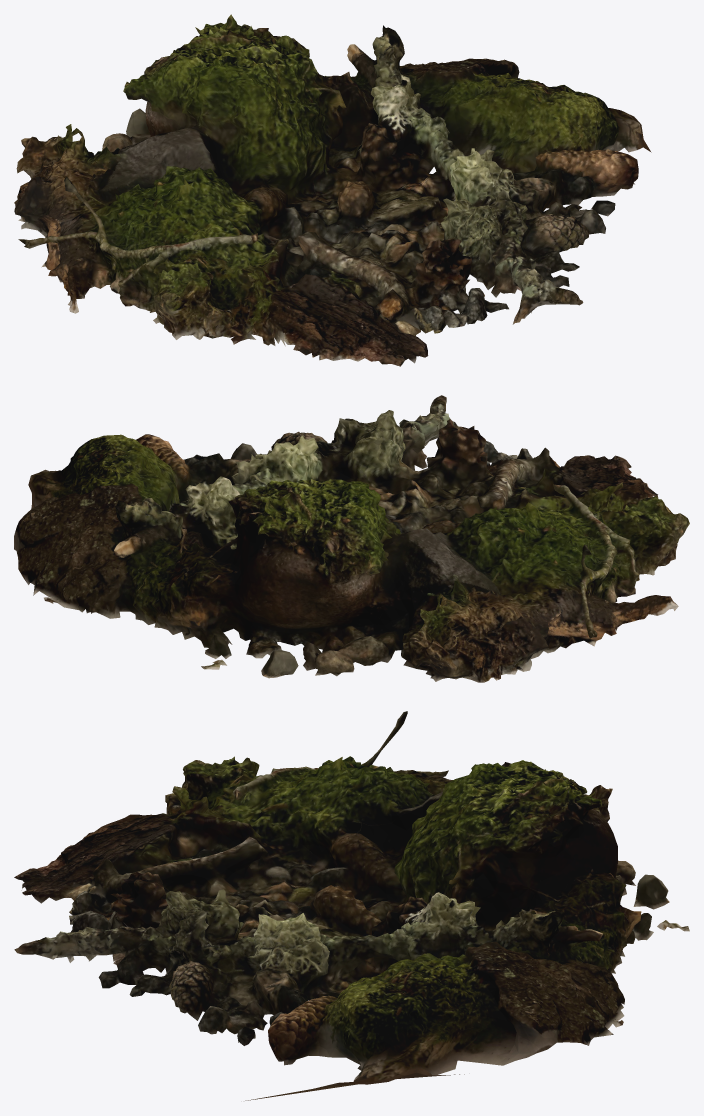
3 renders of one model, top to bottom at view 1: azimuth 30°, elevation 25°; view 2: azimuth 150°, elevation 25°; view 3: azimuth 270°, elevation 25°, orthographic. The views are drawn at different scales.
Size of the model in its own units: 0.5619 by 0.1368 by 0.5183.
Materials: 1 (1 with a texture image).
